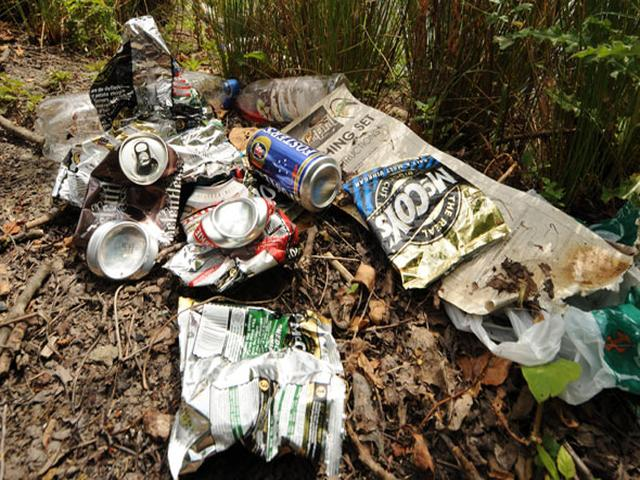garbage: (78, 109, 333, 264)
